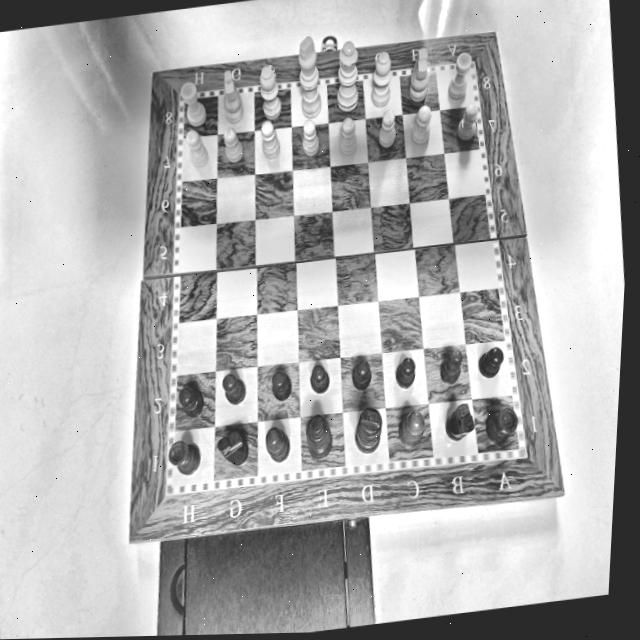black-bishop: (393, 404, 429, 457), (259, 420, 295, 470)
black-king: (345, 401, 390, 461)
black-knight: (209, 423, 255, 476), (438, 400, 478, 442)
black-pawn: (384, 345, 422, 399), (170, 374, 210, 424), (473, 339, 510, 393), (344, 348, 381, 398), (303, 357, 338, 406), (262, 363, 300, 406), (433, 345, 470, 389), (217, 366, 249, 414)
black-queen: (300, 408, 337, 472)
black-rook: (479, 400, 524, 449), (163, 435, 203, 479)
white-bishop: (364, 48, 398, 111), (252, 60, 287, 119)
white-king: (287, 28, 330, 119)
white-knight: (401, 45, 434, 104), (215, 68, 248, 126)
white-pawn: (405, 102, 439, 155), (177, 126, 211, 171), (332, 114, 363, 163), (450, 103, 483, 145), (218, 124, 250, 167), (254, 117, 283, 164), (295, 115, 322, 165), (371, 106, 400, 151)
white-queen: (327, 33, 369, 118)
white-rook: (435, 48, 478, 108), (173, 77, 209, 129)
